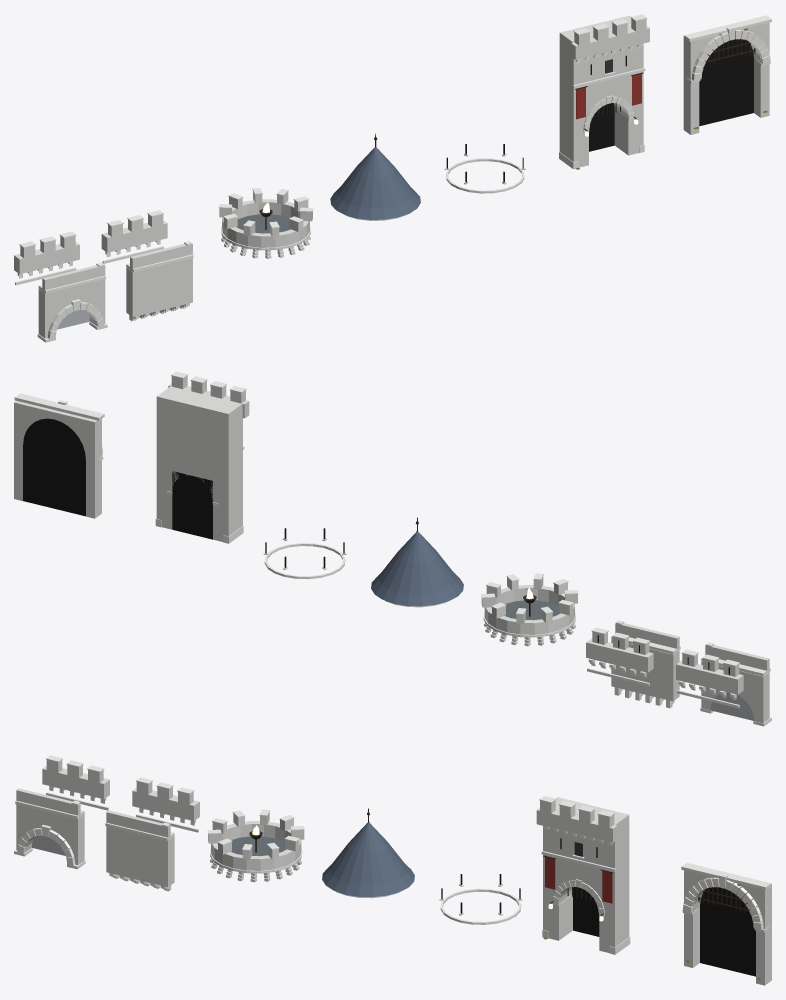
File: wall-kit.glb
The picture shows the model from 3 angles, top to bottom: view 1: azimuth 30°, elevation 25°; view 2: azimuth 150°, elevation 25°; view 3: azimuth 330°, elevation 25°; orthographic projection. The views are drawn at different scales.
Visible parts, largest first — view 1: gatehouse_stone, wall-bay-plain_stone, wall-bay_stone, tower-roof_roof, water-gate_dark, tower-crown_stone, water-gate_stone, water-gate_trim, wall-bay_trim, gatehouse_trim, tower-crown_trim, wall-bay-plain_trim (+4 smaller); view 2: gatehouse_stone, water-gate_dark, wall-bay-plain_stone, tower-roof_roof, wall-bay_stone, water-gate_stone, tower-crown_stone, gatehouse_dark, tower-crown_trim, wall-bay-plain_trim, wall-bay_trim, water-gate_trim (+4 smaller); view 3: gatehouse_stone, wall-bay-plain_stone, wall-bay_stone, tower-roof_roof, water-gate_dark, tower-crown_stone, water-gate_stone, water-gate_trim, wall-bay_trim, gatehouse_trim, tower-crown_trim, wall-bay-plain_trim (+6 smaller).
Part boxes in pixels (bbox=[...]): gatehouse_stone: bbox=[559, 15, 649, 167]; wall-bay-plain_stone: bbox=[101, 214, 192, 317]; wall-bay_stone: bbox=[14, 235, 105, 338]; tower-roof_roof: bbox=[330, 147, 420, 219]; water-gate_dark: bbox=[699, 39, 753, 126]; tower-crown_stone: bbox=[219, 191, 312, 247]; water-gate_stone: bbox=[683, 22, 769, 134]; water-gate_trim: bbox=[684, 15, 771, 83]; wall-bay_trim: bbox=[15, 231, 107, 342]; gatehouse_trim: bbox=[559, 14, 647, 169]; tower-crown_trim: bbox=[218, 188, 313, 258]; wall-bay-plain_trim: bbox=[102, 210, 193, 321]; gatehouse_stone: bbox=[156, 376, 249, 541]; water-gate_dark: bbox=[23, 418, 85, 516]; wall-bay-plain_stone: bbox=[586, 623, 679, 701]; tower-roof_roof: bbox=[371, 531, 463, 606]; wall-bay_stone: bbox=[676, 645, 769, 723]; water-gate_stone: bbox=[14, 401, 101, 518]; tower-crown_stone: bbox=[481, 577, 577, 634]; gatehouse_dark: bbox=[172, 471, 212, 539]; tower-crown_trim: bbox=[481, 573, 578, 646]; wall-bay-plain_trim: bbox=[587, 620, 680, 708]; wall-bay_trim: bbox=[677, 642, 771, 726]; water-gate_trim: bbox=[14, 393, 104, 462]; gatehouse_stone: bbox=[536, 797, 629, 952]; wall-bay-plain_stone: bbox=[106, 781, 199, 887]; wall-bay_stone: bbox=[16, 760, 109, 865]; tower-roof_roof: bbox=[322, 822, 414, 896]; water-gate_dark: bbox=[700, 887, 755, 976]; tower-crown_stone: bbox=[208, 812, 304, 870]; water-gate_stone: bbox=[684, 870, 771, 985]; water-gate_trim: bbox=[681, 863, 771, 932]; wall-bay_trim: bbox=[14, 755, 108, 869]; gatehouse_trim: bbox=[539, 796, 630, 954]; tower-crown_trim: bbox=[207, 809, 304, 882]; wall-bay-plain_trim: bbox=[105, 777, 198, 891].
Bounding box in the file's own units: 66.58 × 16.84 × 7.64.
